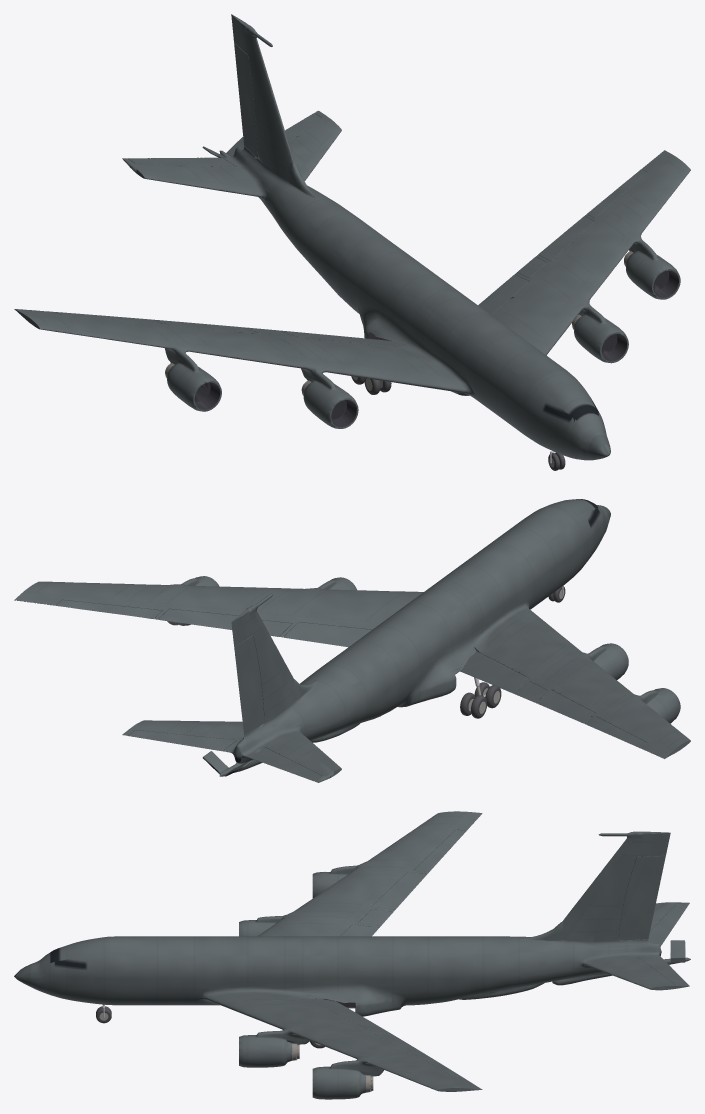
3 views of the same model, one above another, from view 1: azimuth 30°, elevation 25°; view 2: azimuth 150°, elevation 25°; view 3: azimuth 270°, elevation 25° (orthographic). The views are drawn at different scales.
Parts seen in each view (by area): view 1: airframe, fsim:flaps (×2), fsim:rudder, fsim:elevator; view 2: airframe, fsim:flaps (×4), fsim:rudder, fsim:elevator (×2), fsim:aileron (×2), fsim:wheel:2:0.6225; view 3: airframe, fsim:rudder, fsim:flaps (×2), fsim:elevator (×2), fsim:aileron.
Boxes of the visible parts, <box> form: airframe: <box>14,14,690,460</box>; fsim:flaps (×2): <box>478,216,594,315</box>; fsim:rudder: <box>234,42,258,158</box>; fsim:elevator: <box>128,157,235,166</box>; airframe: <box>14,499,690,782</box>; fsim:flaps (×4): <box>158,609,594,723</box>; fsim:rudder: <box>234,635,264,734</box>; fsim:elevator (×2): <box>128,730,321,781</box>; fsim:aileron (×2): <box>56,600,646,748</box>; fsim:wheel:2:0.6225: <box>460,692,487,718</box>; airframe: <box>14,811,690,1099</box>; fsim:rudder: <box>618,855,665,940</box>; fsim:flaps (×2): <box>310,872,426,1026</box>; fsim:elevator (×2): <box>637,905,687,984</box>; fsim:aileron: <box>414,829,466,872</box>.
Bounding box in the file's own units: 39.9 × 12.78 × 41.24.
6 materials, 1 textured.
